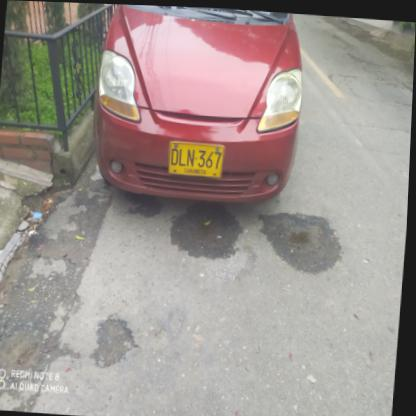placa: (163, 137, 231, 181)
